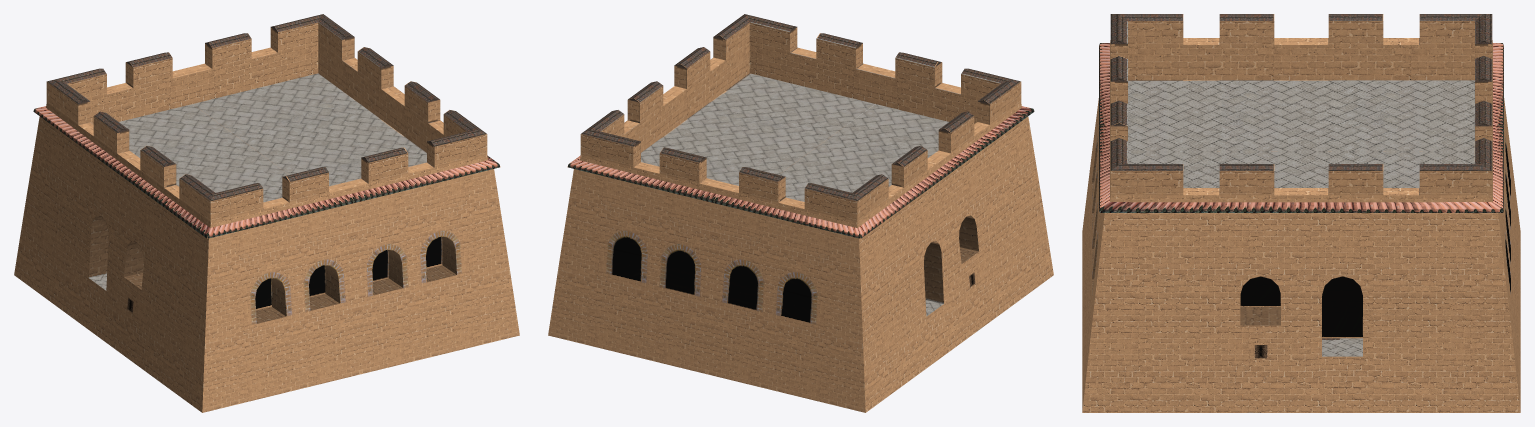
File: torretta.obj
3 renders of one model, left to right at view 1: azimuth 30°, elevation 25°; view 2: azimuth 150°, elevation 25°; view 3: azimuth 270°, elevation 25°, orthographic. The views are drawn at different scales.
Visible parts, largest first — view 1: torretta_torretta_merletti.000; view 2: torretta_torretta_merletti.000; view 3: torretta_torretta_merletti.000.
Part boxes in pixels (x1=…): torretta_torretta_merletti.000: x1=14, y1=14, x2=519, y2=412; torretta_torretta_merletti.000: x1=548, y1=14, x2=1053, y2=412; torretta_torretta_merletti.000: x1=1082, y1=14, x2=1520, y2=412.
Size of the model in its own units: 13.29 by 8.01 by 13.64.
